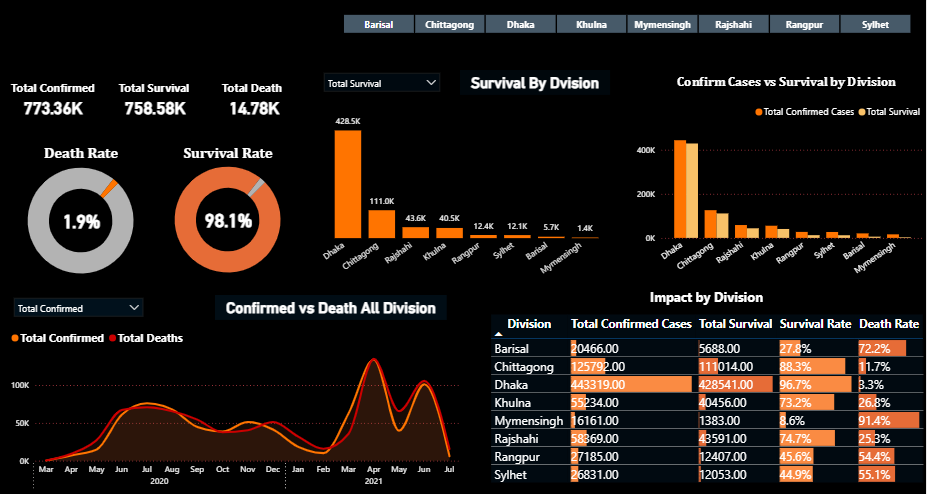

What the dashboard file says about the page in this screenshot:
{"tool":"powerbi","page":{"name":"Page 1","canvas":[1340,720],"ordinal":0},"visuals":[{"type":"card","fields":{"Values":["measurements.Total Confirmed Cases"]},"box":[26,127.2,101.2,62.2],"z":0},{"type":"columnChart","fields":{"Y":["measurements.Total Survival"],"Category":["data.Division"]},"box":[458.3,153.3,432.3,268.9],"z":1000},{"type":"slicer","fields":{"Values":["Switch Situation.Switch Situation"]},"box":[458.3,98.3,188,43.4],"z":2000},{"type":"lineChart","fields":{"Y":["measurements.Total Confirmed Cases"],"Category":["DateTable.months.Year","DateTable.months.Month"],"Y2":["measurements.Total Deaths"]},"box":[10.1,469.9,659.3,250.1],"z":3000},{"type":"slicer","fields":{"Values":["CvS By Time.CvS By Time"]},"box":[10.1,423.6,206.7,49.2],"z":4000},{"type":"card","fields":{"Values":["measurements.Bar Chart Caption"]},"box":[665.1,104.1,216.9,36.1],"z":5000},{"type":"card","fields":{"Values":["measurements.Line Chart Caption"]},"box":[310.8,429.4,335.4,36.1],"z":6000},{"type":"tableEx","fields":{"Values":["data.Division","measurements.Total Confirmed Cases","measurements.Total Survival","measurements.% survival","measurements.% death"]},"box":[704.1,452.5,636.1,267.5],"z":7000},{"type":"clusteredColumnChart","fields":{"Category":["data.Division"],"Y":["measurements.Total Confirmed Cases","measurements.Total Survival"]},"box":[915.2,144.6,425.1,277.6],"z":8000},{"type":"group","id":"g1","title":"Group 1","box":[228.4,220.2,201,201],"z":9000},{"type":"donutChart","fields":{"Y":["measurements.Total Confirmed Cases","measurements.Total Deaths"]},"box":[228.4,220.2,201.3,201.3],"z":10000,"group":"g1"},{"type":"group","id":"g2","title":"Group 2","box":[15.9,221.7,201,201],"z":10000},{"type":"slicer","fields":{"Values":["data.Division"]},"box":[471.3,17.3,868.9,40.5],"z":11000},{"type":"textbox","box":[1.4,114.2,150.4,33.3],"z":12000},{"type":"card","fields":{"Values":["measurements.% survival"]},"box":[290.1,286.3,79.3,69.1],"z":12000,"group":"g1"},{"type":"card","fields":{"Values":["measurements.Total Survival"]},"box":[173.5,133,101.2,52],"z":13000},{"type":"donutChart","fields":{"Y":["measurements.Total Confirmed Cases","measurements.Total Deaths"]},"box":[15.9,221.7,201.3,201.3],"z":13000,"group":"g3"},{"type":"textbox","box":[147.5,114.2,150.4,33.3],"z":14000},{"type":"card","fields":{"Values":["measurements.Death Rate"]},"box":[77.6,287.8,79.3,69.1],"z":14000,"group":"g3"},{"type":"card","fields":{"Values":["measurements.Total Deaths"]},"box":[316.6,127.2,101.2,62.2],"z":15000},{"type":"textbox","box":[306.5,114.2,115.7,33.3],"z":16000},{"type":"group","id":"g3","title":"Group 3","box":[15.9,221.7,201,201],"z":16001,"group":"g2"},{"type":"textbox","box":[43.4,206.7,147.5,34.7],"z":17000},{"type":"textbox","box":[255.9,206.7,147.5,34.7],"z":18000},{"type":"textbox","box":[906.5,414.9,229.9,37.6],"z":19000},{"type":"textbox","box":[964.3,104.1,345.5,37.6],"z":20000}]}

Visuals, with their boxes in screenshot pixels (x1, y1, x2, y2), scaled from the page's 1340x720 canvas onto the 927x494 screenshot:
card - measurements.Total Confirmed Cases: [18,87,88,130]
columnChart - measurements.Total Survival x data.Division: [317,105,616,290]
slicer - Switch Situation.Switch Situation: [317,67,447,97]
lineChart - measurements.Total Confirmed Cases x DateTable.months.Year: [7,322,463,493]
slicer - CvS By Time.CvS By Time: [7,291,150,324]
card - measurements.Bar Chart Caption: [460,71,610,96]
card - measurements.Line Chart Caption: [215,295,447,319]
tableEx - data.Division x measurements.Total Confirmed Cases: [487,310,926,493]
clusteredColumnChart - data.Division x measurements.Total Confirmed Cases: [633,99,926,290]
"Group 1" group: [158,151,297,289]
donutChart - measurements.Total Confirmed Cases x measurements.Total Deaths: [158,151,297,289]
"Group 2" group: [11,152,150,290]
slicer - data.Division: [326,12,926,40]
textbox: [1,78,105,101]
card - measurements.% survival: [201,196,256,244]
card - measurements.Total Survival: [120,91,190,127]
donutChart - measurements.Total Confirmed Cases x measurements.Total Deaths: [11,152,150,290]
textbox: [102,78,206,101]
card - measurements.Death Rate: [54,197,109,245]
card - measurements.Total Deaths: [219,87,289,130]
textbox: [212,78,292,101]
"Group 3" group: [11,152,150,290]
textbox: [30,142,132,166]
textbox: [177,142,279,166]
textbox: [627,285,786,310]
textbox: [667,71,906,97]
